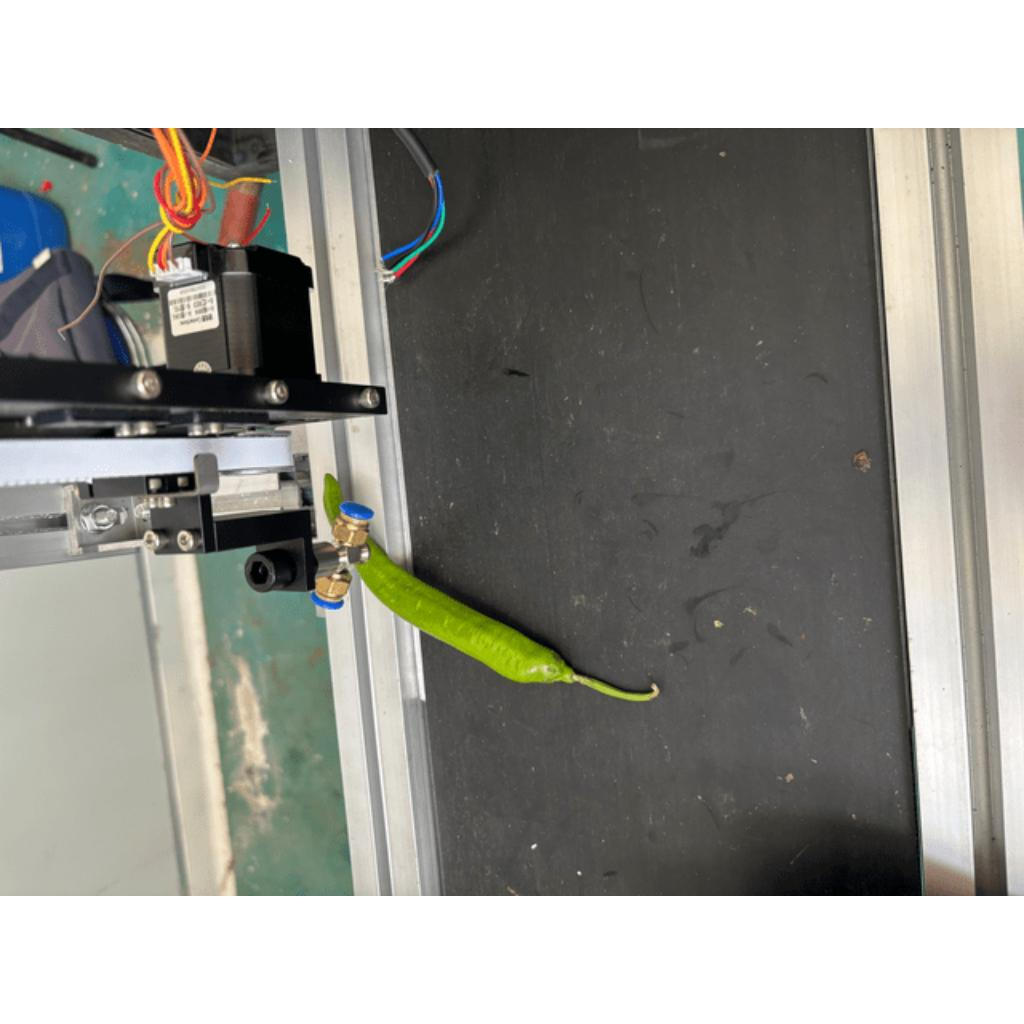chili: (322, 471, 569, 683)
